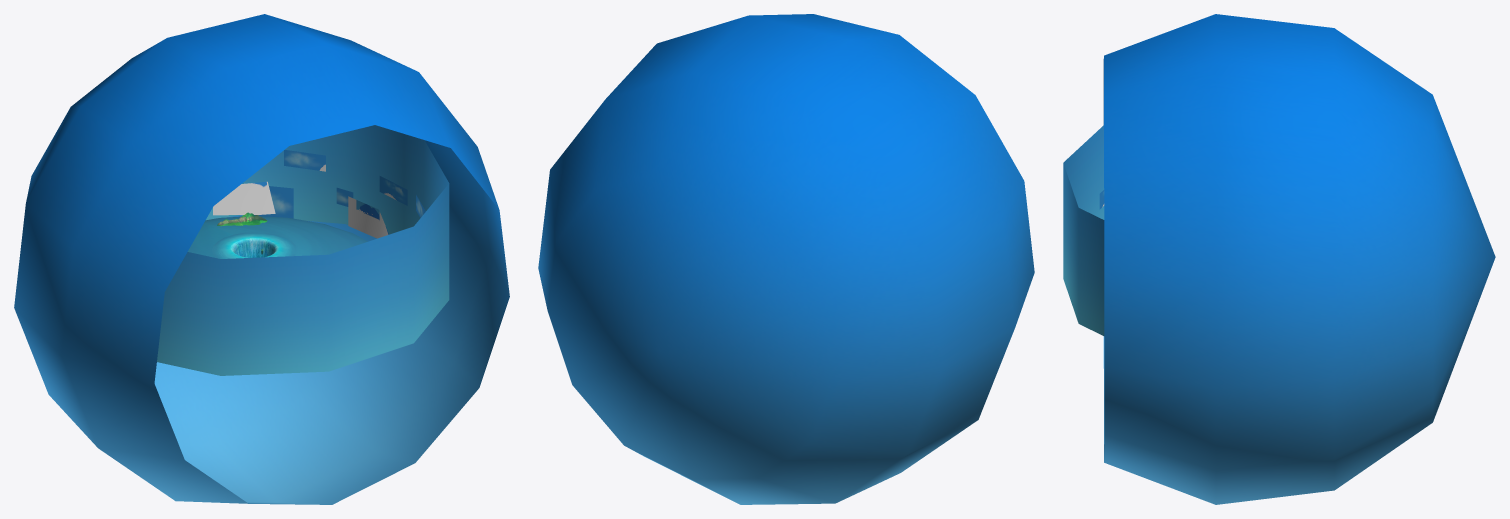
The model's file is sky01.FBX.
3 views of the same model, side by side, from view 1: azimuth 30°, elevation 25°; view 2: azimuth 150°, elevation 25°; view 3: azimuth 270°, elevation 25° (orthographic).
Visible parts, largest first — view 1: objsky01, Cylinder001, sea01, yun01, yun02; view 2: objsky01; view 3: objsky01, Cylinder001.
Part boxes in pixels (x1=…): objsky01: x1=14, y1=14, x2=509, y2=504; Cylinder001: x1=157, y1=125, x2=449, y2=375; sea01: x1=187, y1=216, x2=367, y2=258; yun01: x1=213, y1=181, x2=388, y2=238; yun02: x1=284, y1=150, x2=425, y2=217; objsky01: x1=538, y1=14, x2=1034, y2=504; objsky01: x1=1103, y1=14, x2=1495, y2=504; Cylinder001: x1=1063, y1=125, x2=1104, y2=335.
Size of the model in its own units: 30602 by 30379 by 26874.
